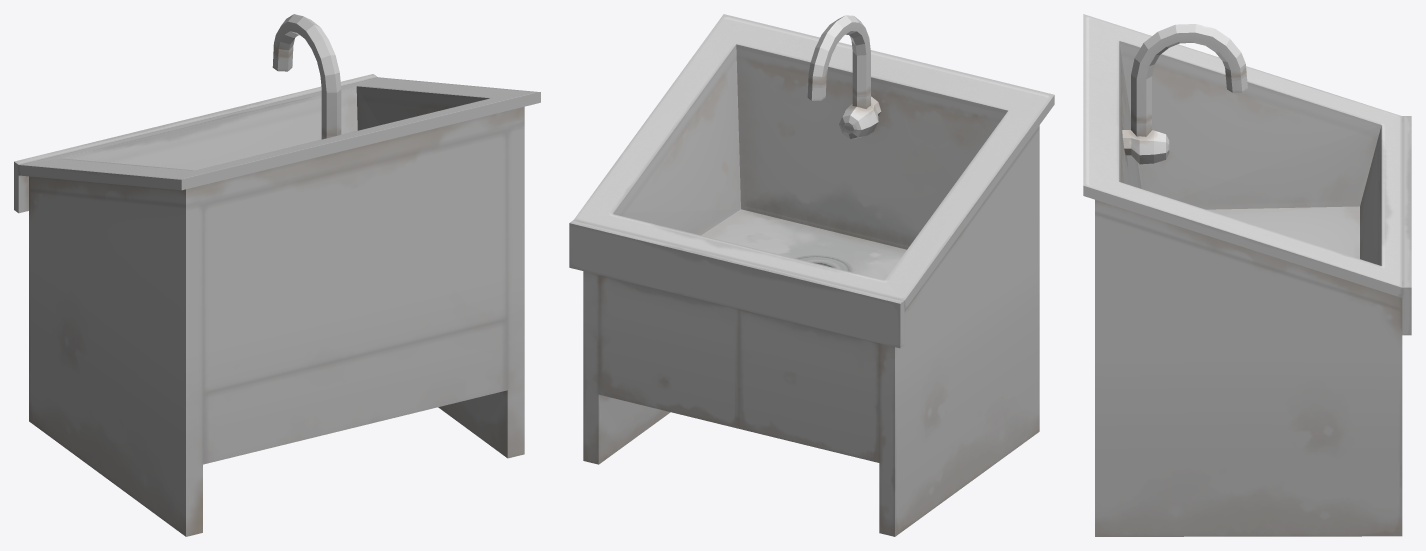
The model's file is P_Washbasin_006_S1_M01.obj.
3 views of the same model, side by side, from view 1: azimuth 30°, elevation 25°; view 2: azimuth 150°, elevation 25°; view 3: azimuth 270°, elevation 25° (orthographic). The views are drawn at different scales.
Size of the model in its own units: 1.02 by 1.19 by 0.8215.
1 material, 1 textured.
